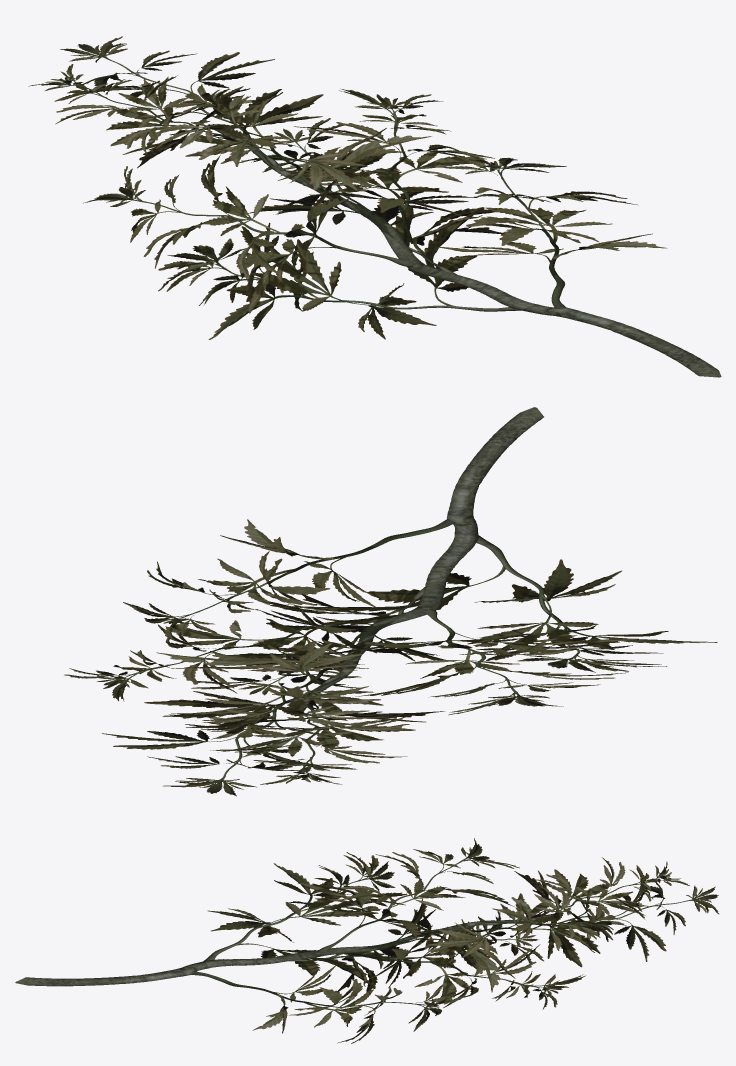
The model's file is TI_Bush_01_part_03.fbx.
3 views of the same model, one above another, from view 1: azimuth 30°, elevation 25°; view 2: azimuth 150°, elevation 25°; view 3: azimuth 270°, elevation 25° (orthographic). The views are drawn at different scales.
Parts seen in each view (by area): view 1: TI_Bush_01_part_03; view 2: TI_Bush_01_part_03; view 3: TI_Bush_01_part_03.
Part boxes in pixels (x1,y1,x2,y2): TI_Bush_01_part_03: (28, 36, 721, 377); TI_Bush_01_part_03: (64, 407, 717, 796); TI_Bush_01_part_03: (15, 838, 719, 1043).
Size of the model in its own units: 1.23 by 0.1313 by 2.04.
